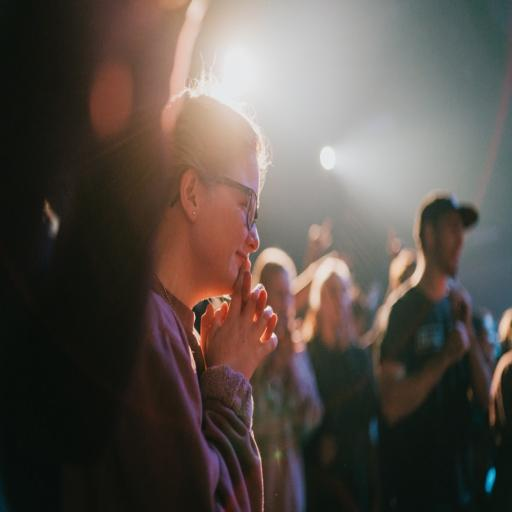face: (197, 183, 259, 295), (319, 274, 352, 345), (432, 212, 463, 276), (266, 269, 294, 332)
